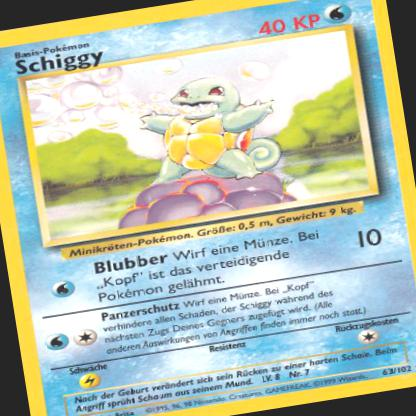Squirtle: (133, 61, 294, 198)
